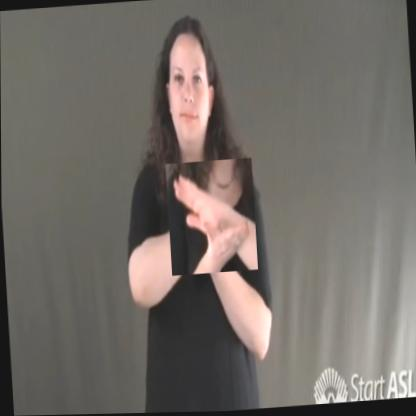NiceToMeetYou: (164, 159, 257, 277)
